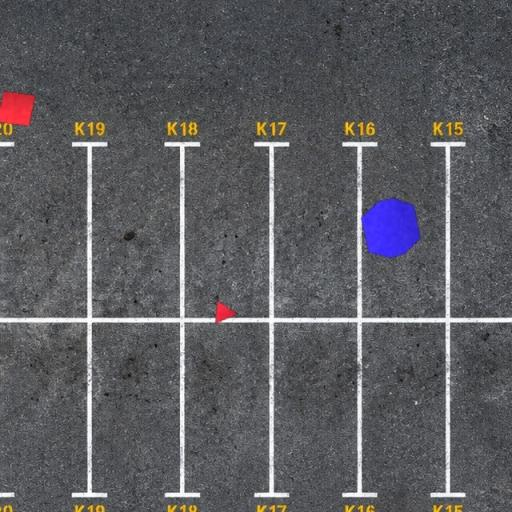RED_SQUARE: (0, 90, 36, 126)
